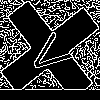V: (25, 25, 82, 80)
